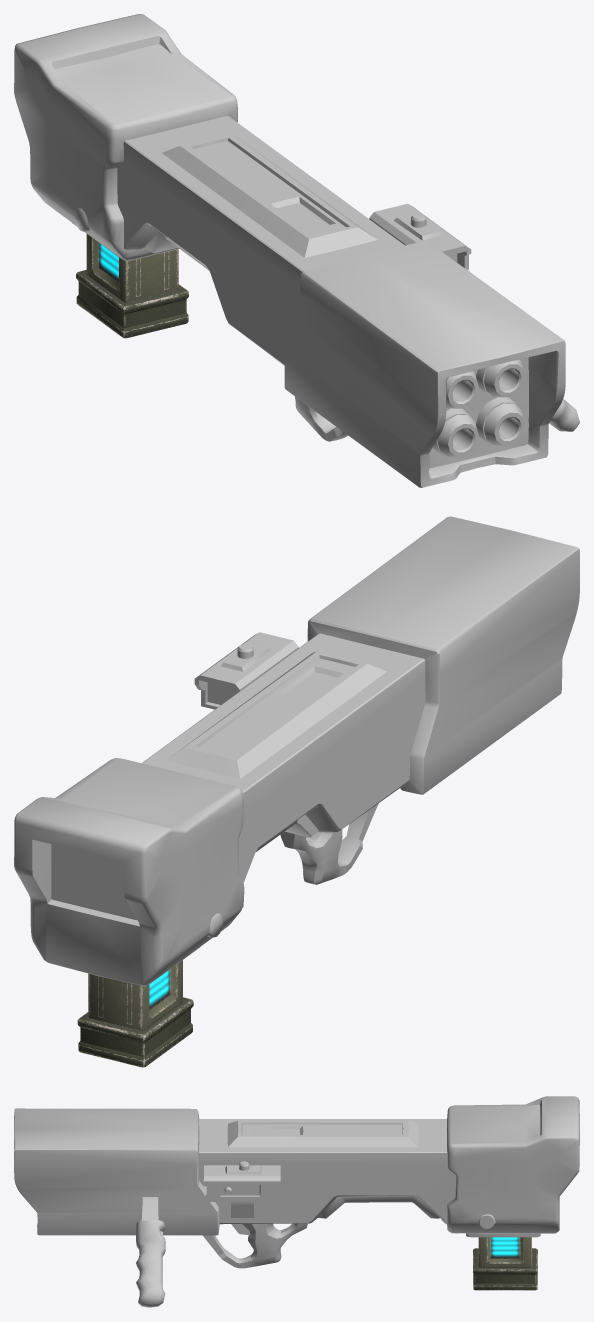
File: SM_SciFiMissileLauncher.FBX
The picture shows the model from 3 angles, top to bottom: view 1: azimuth 30°, elevation 25°; view 2: azimuth 150°, elevation 25°; view 3: azimuth 270°, elevation 25°; orthographic projection. The views are drawn at different scales.
Visible parts, largest first — view 1: SM_SciFiMissileLauncher; view 2: SM_SciFiMissileLauncher; view 3: SM_SciFiMissileLauncher.
Boxes of the visible parts, x1,y1,x2,y2 form: SM_SciFiMissileLauncher: (14,14,579,487); SM_SciFiMissileLauncher: (14,516,579,1067); SM_SciFiMissileLauncher: (14,1096,579,1307).
Bounding box in the file's own units: 42.72 × 41.91 × 131.
